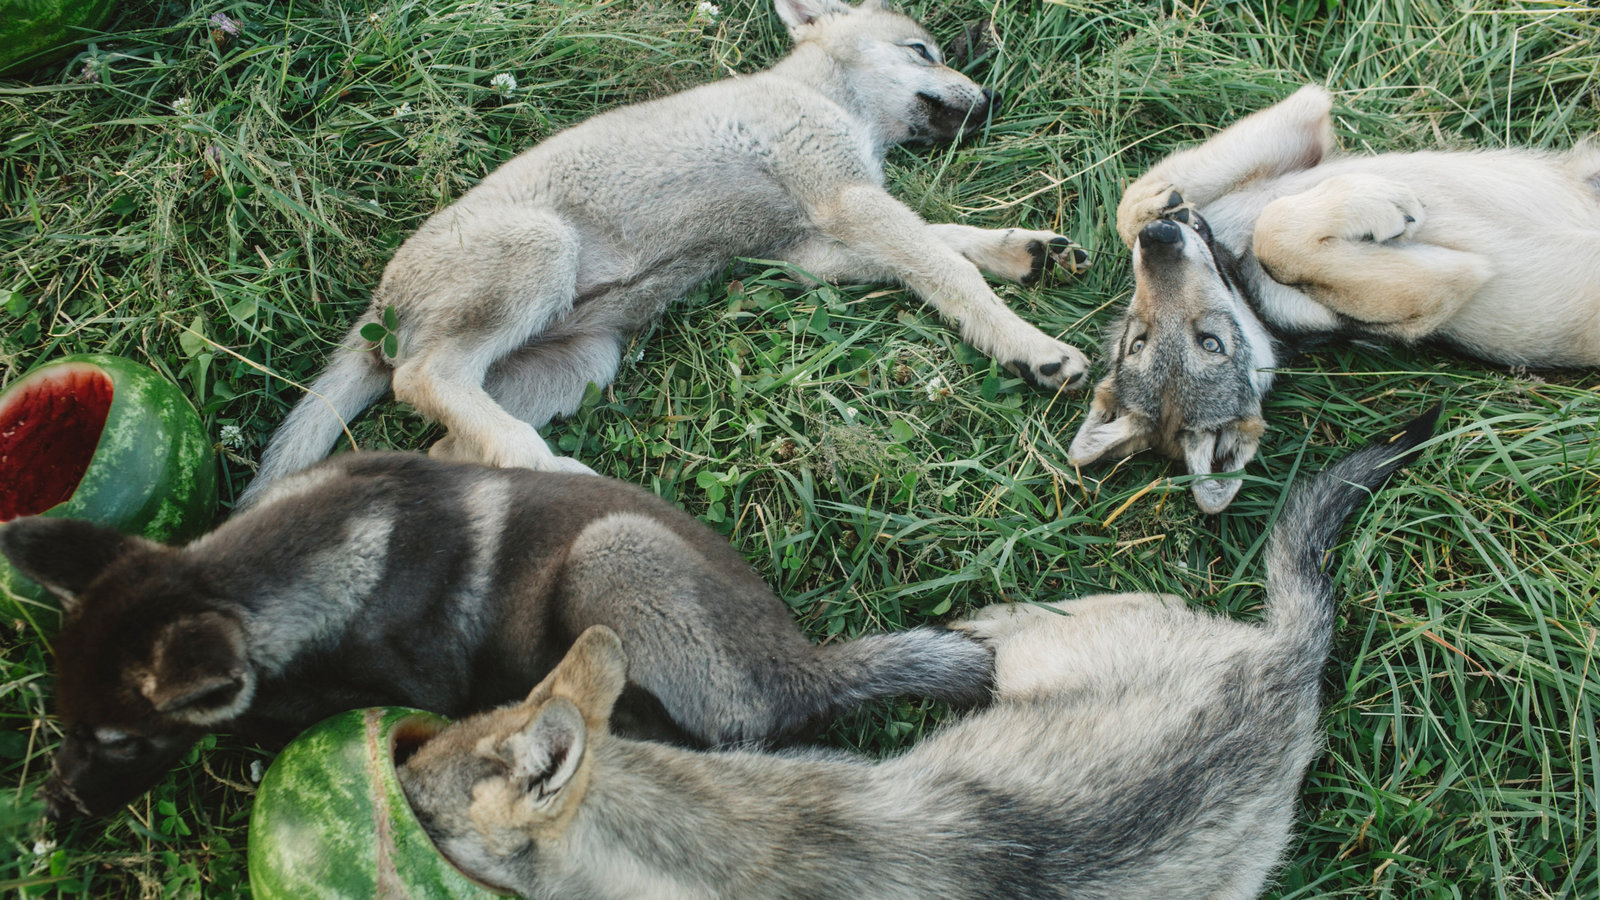Lobo: (305, 19, 1089, 488), (25, 443, 905, 784), (1078, 64, 1563, 526), (378, 704, 1352, 885)
